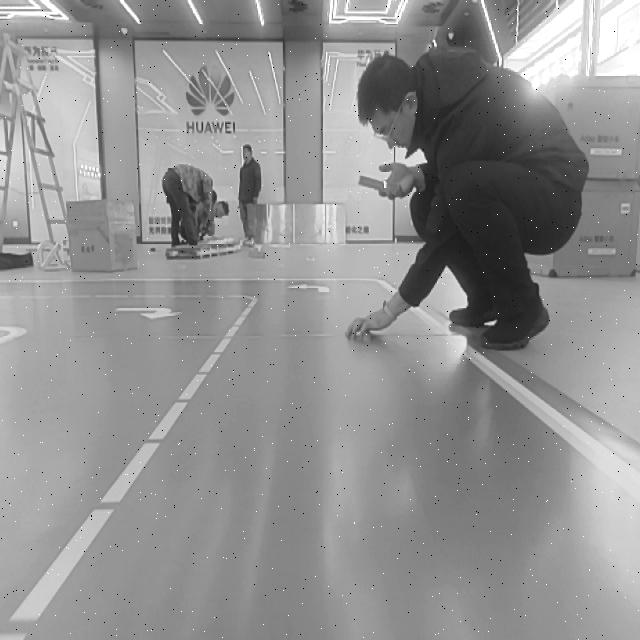left_lane: (0, 300, 251, 640)
right_lane: (382, 281, 640, 507)
